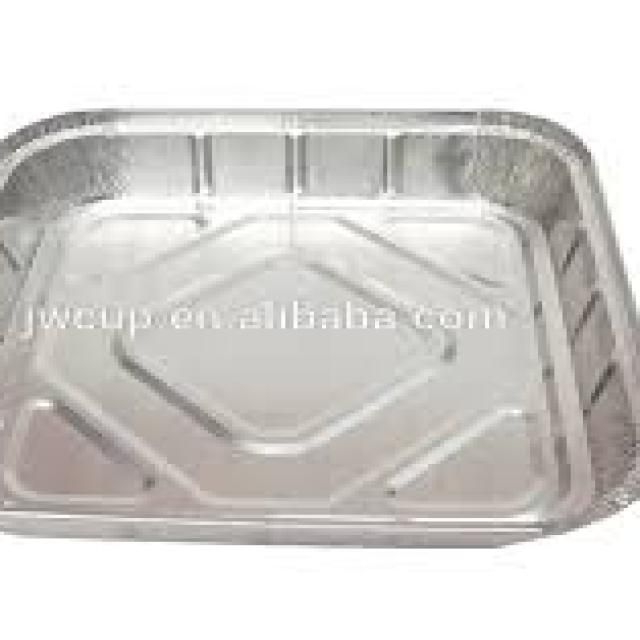organic: (2, 95, 638, 573)
